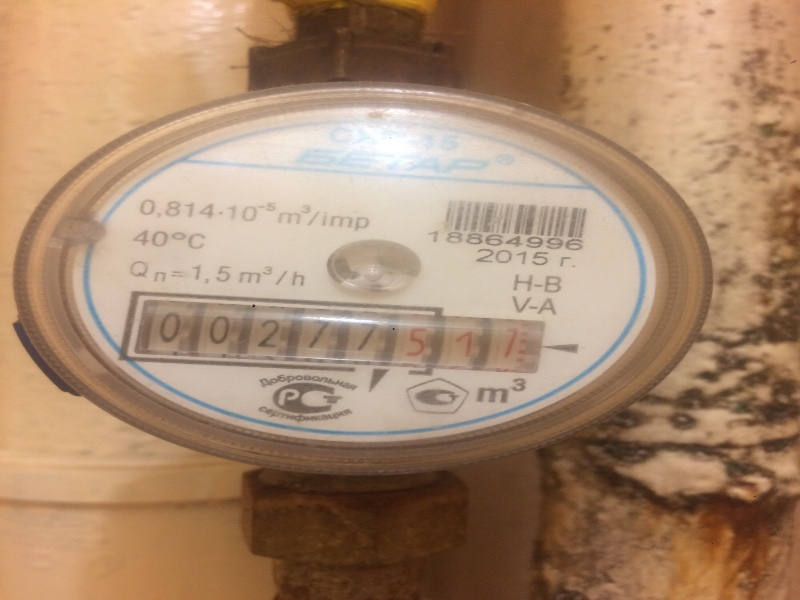meter: (139, 304, 518, 368)
